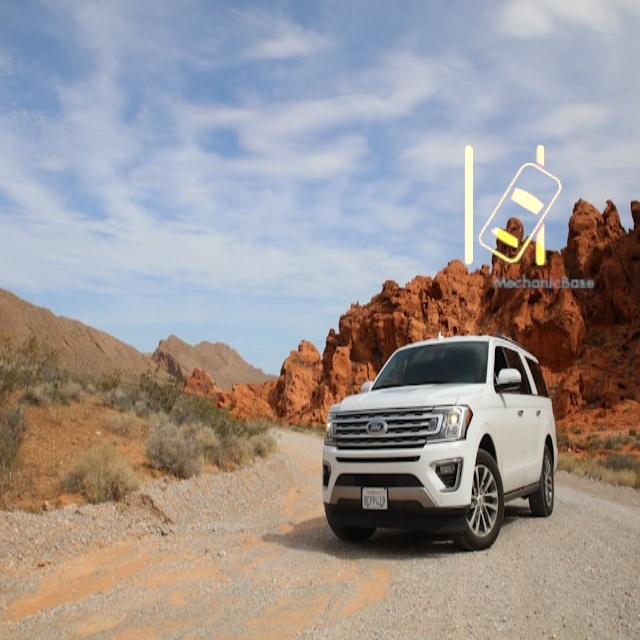symbol: (424, 120, 601, 297)
